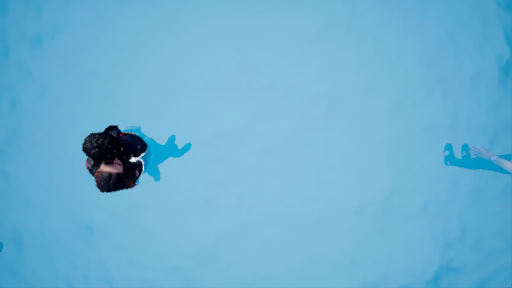person: (81, 123, 202, 196)
